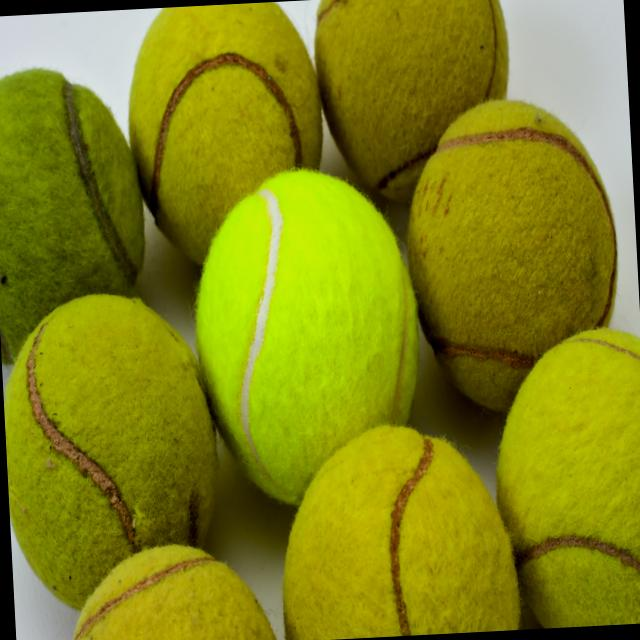Tennis ball: (0, 0, 640, 640), (186, 160, 426, 512)
